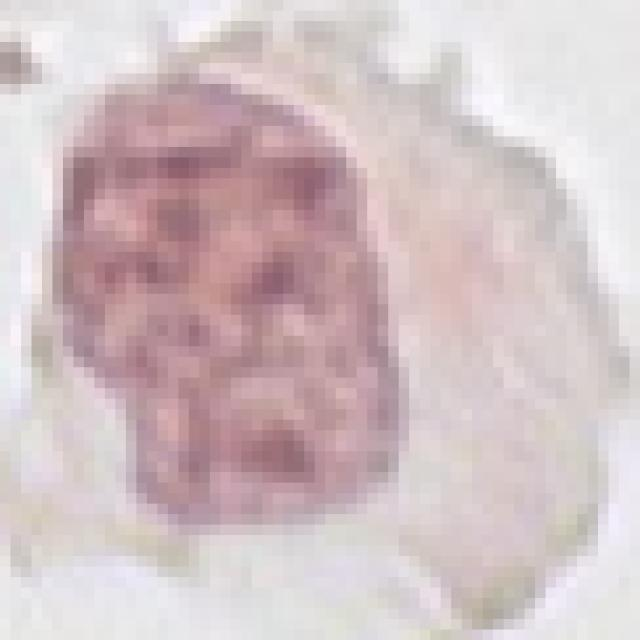nucleus: (41, 59, 421, 552)
